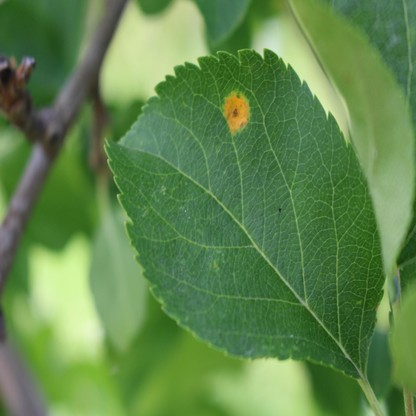rust: (224, 91, 251, 134)
